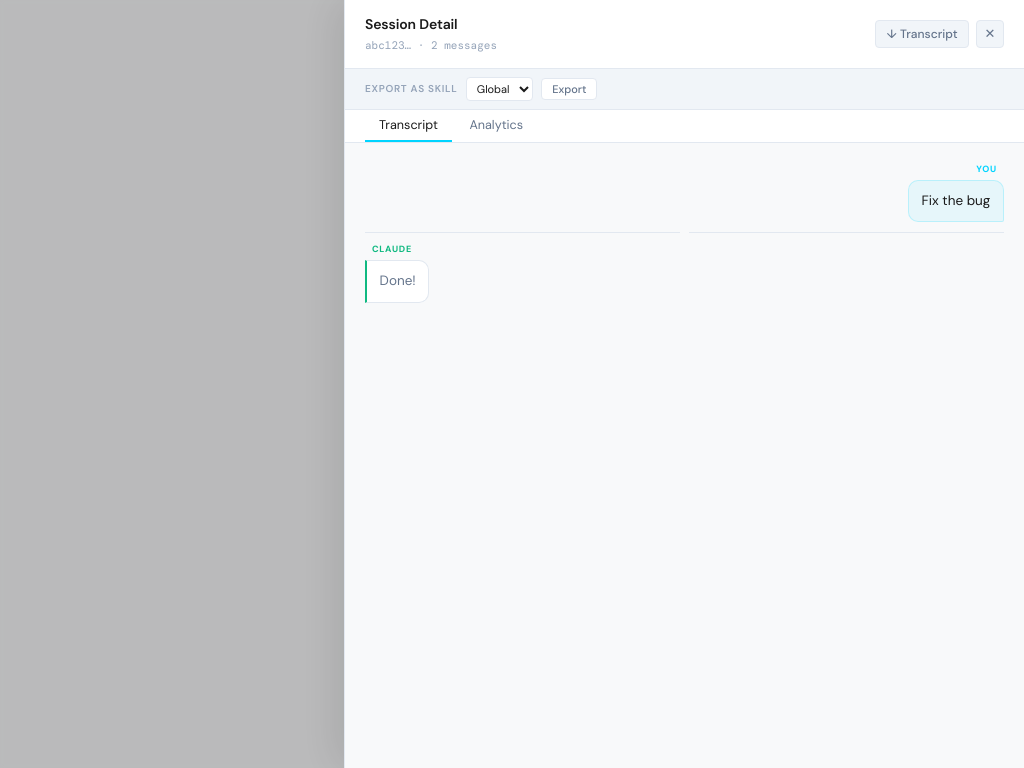
Scenario: SessionDetail › shows retry on export error
Click the button "Export".
click(569, 88)  # box [541, 78, 597, 100]
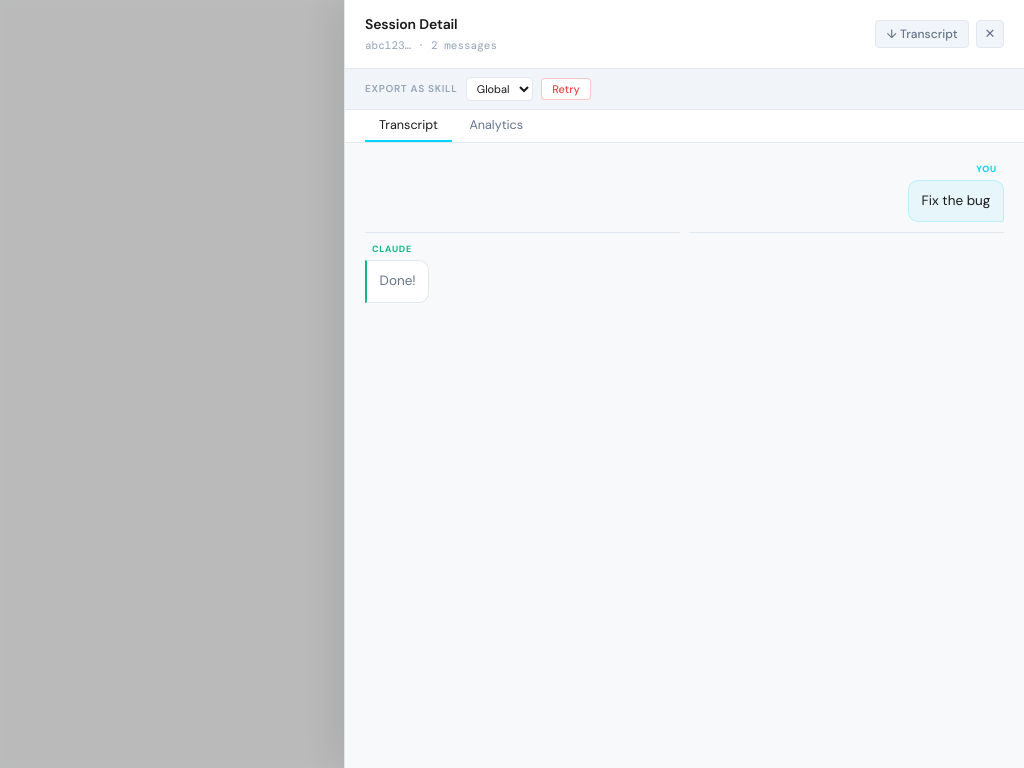
Check: the button "Retry" is shown, box [541, 78, 591, 100]
